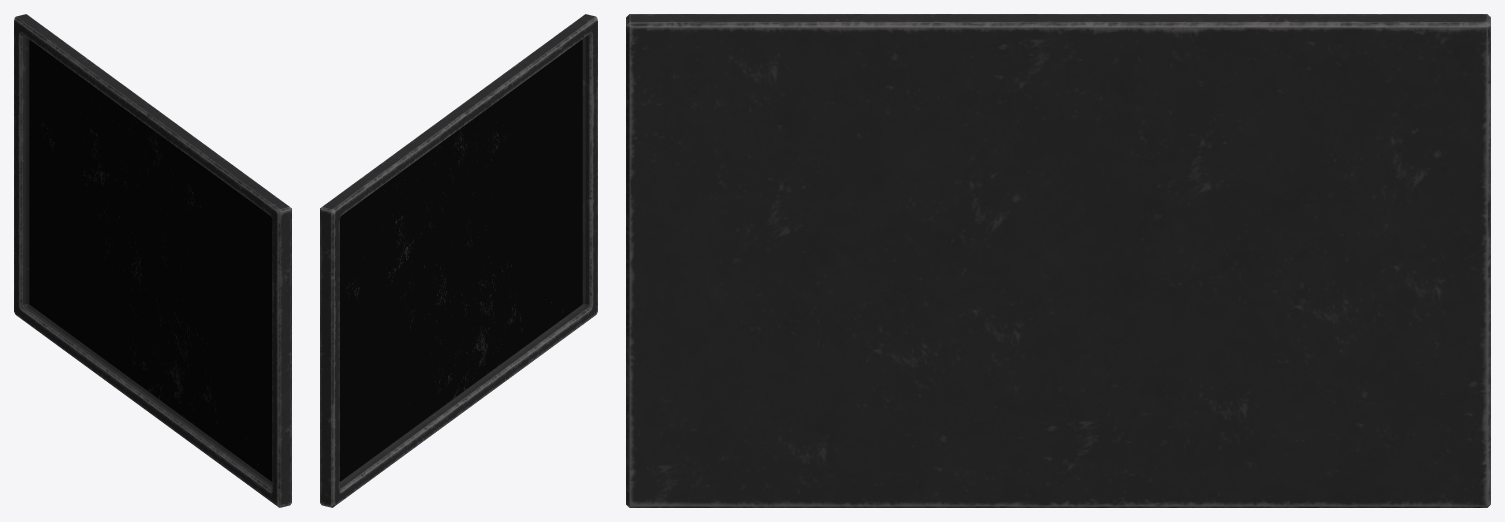
The picture shows the model from 3 angles, left to right: view 1: azimuth 30°, elevation 25°; view 2: azimuth 150°, elevation 25°; view 3: azimuth 270°, elevation 25°; orthographic projection. The views are drawn at different scales.
Parts seen in each view (by area): view 1: pCube53; view 2: pCube53; view 3: pCube53.
Part boxes in pixels (bbox=[...]): pCube53: bbox=[14, 14, 291, 507]; pCube53: bbox=[320, 14, 597, 507]; pCube53: bbox=[626, 14, 1490, 507].
Size of the model in its own units: 2.87 by 56.92 by 91.88.
Materials: 1 (1 with a texture image).
